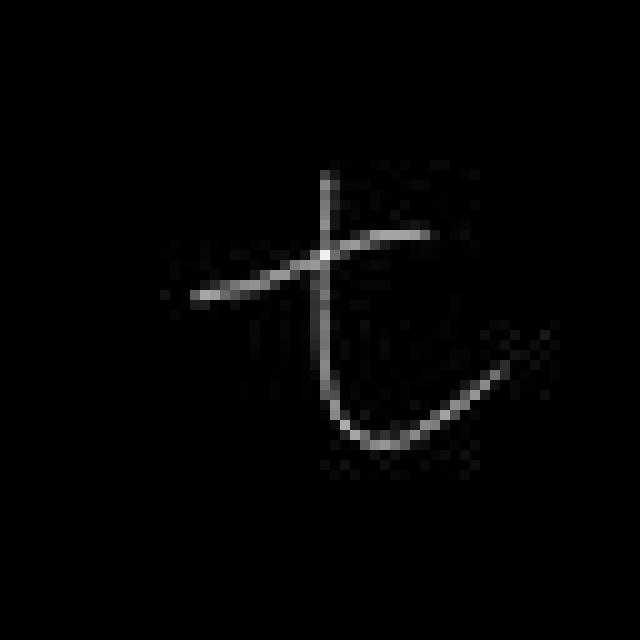7 -seven-: (184, 168, 517, 458)
